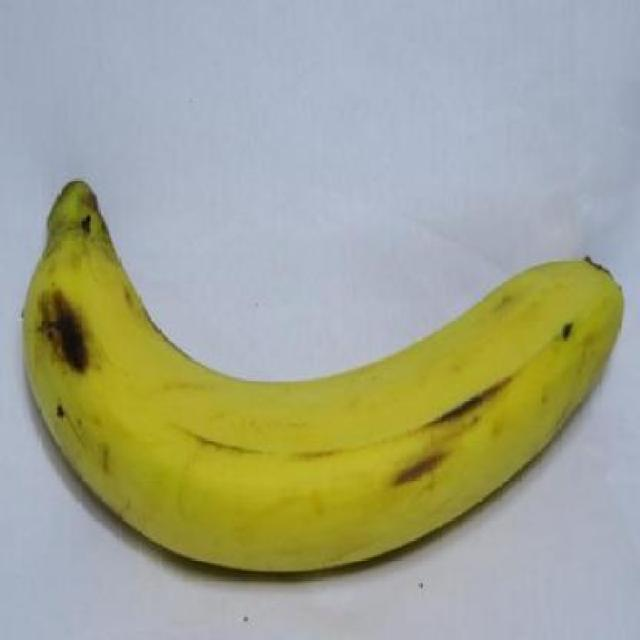ripe: (0, 156, 640, 576)
